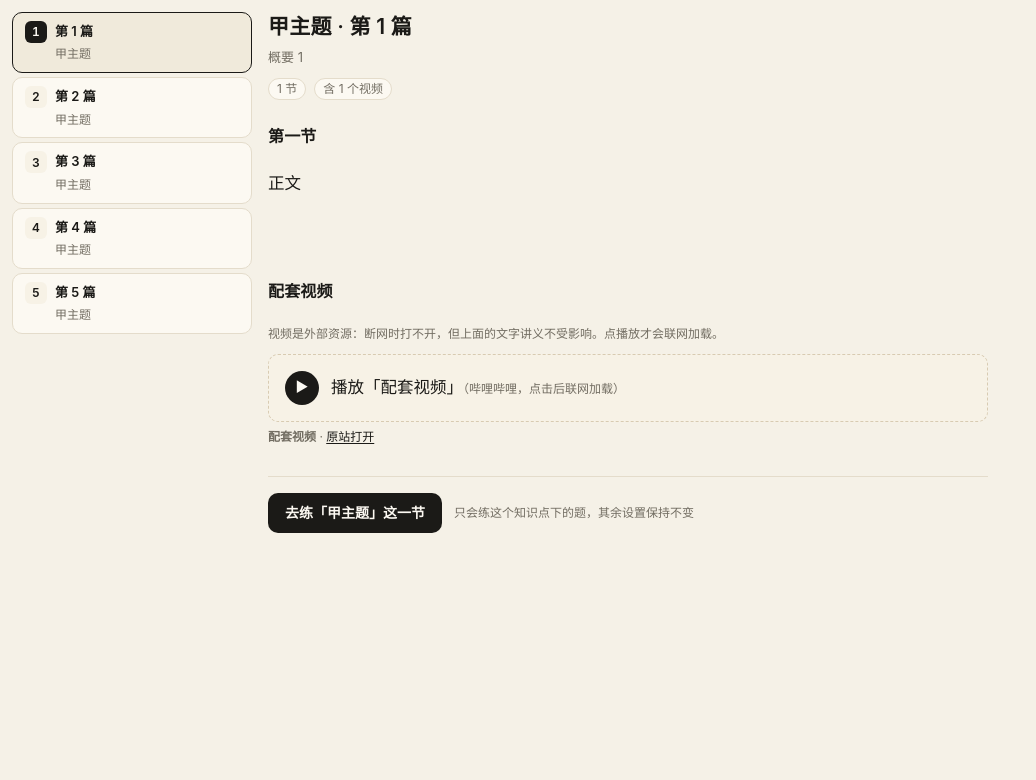
Test: B-4：断网时点播放给「需联网」提示 › 断网点播放不挂 iframe，显示需联网提示，正文标题仍在（讲义可读）
The image size is (1036, 780).
Click the button "▶ 播放「配套视频」（哔哩哔哩，点击后联网加载）": (628, 388) [268,354,988,422]
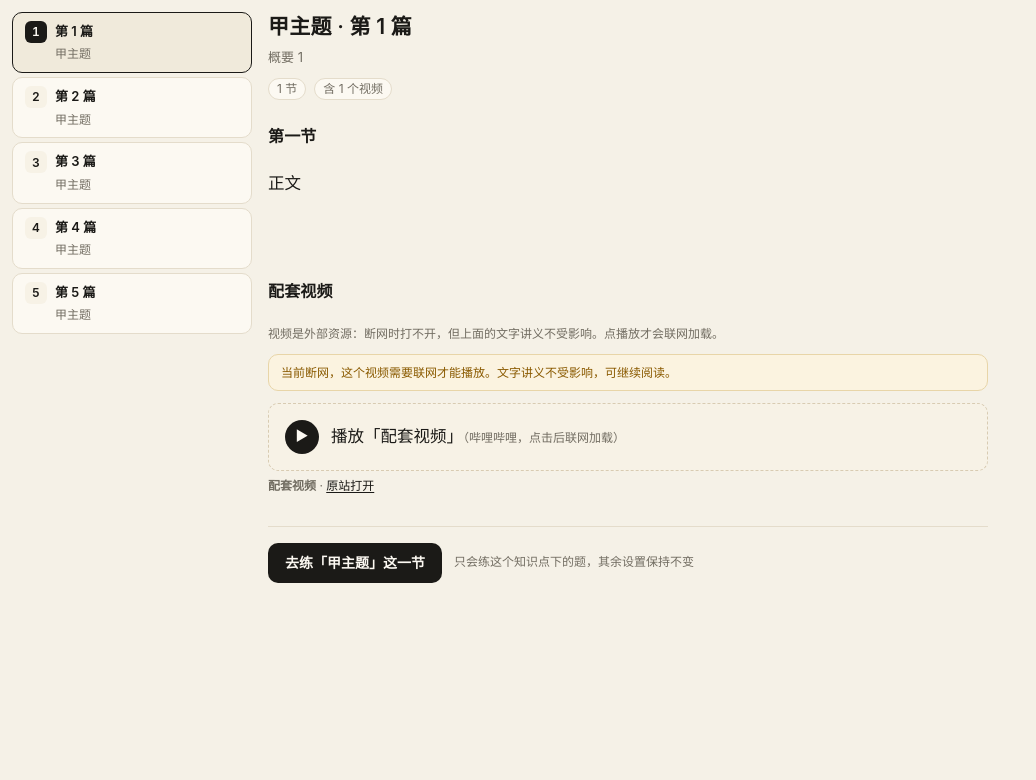
expect the text "第 1 篇" is shown: met, box [55,21,93,42]
expect the text "当前断网，这个视频需要联网才能播放。文字讲义不受影响，可继续阅读。" is shown: met, box [268,354,988,391]
